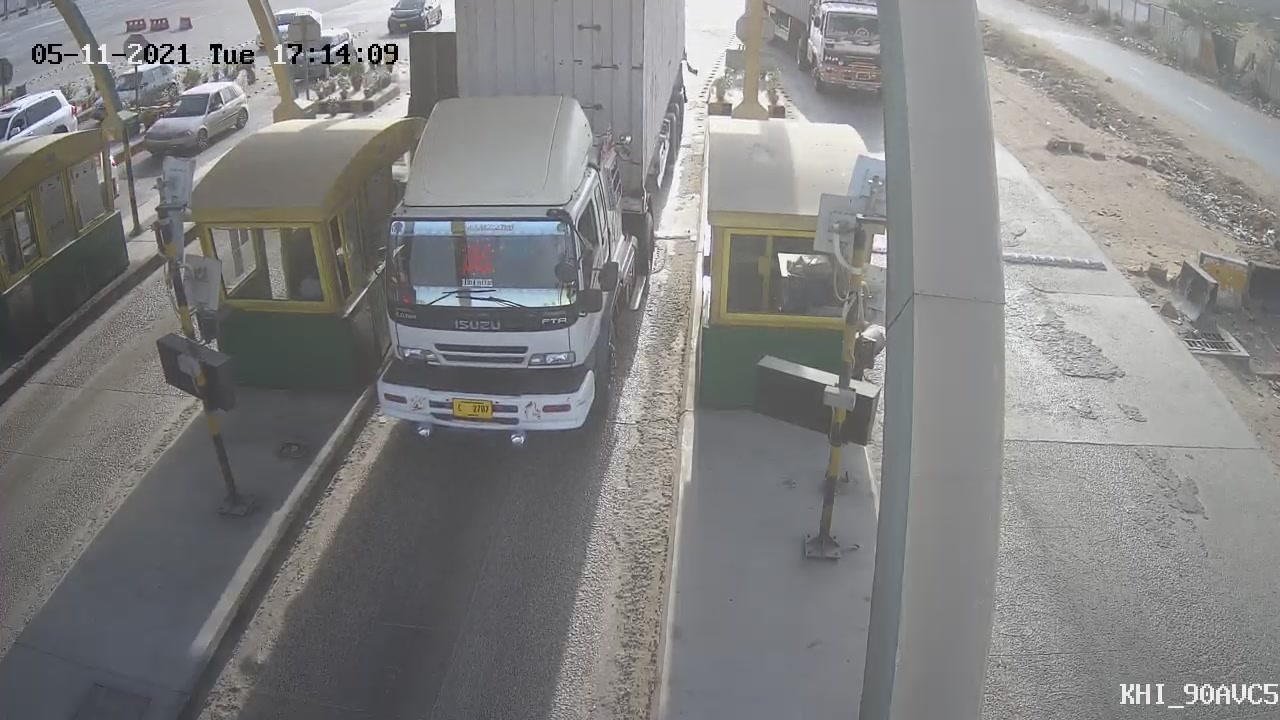F6: (329, 3, 704, 469)
